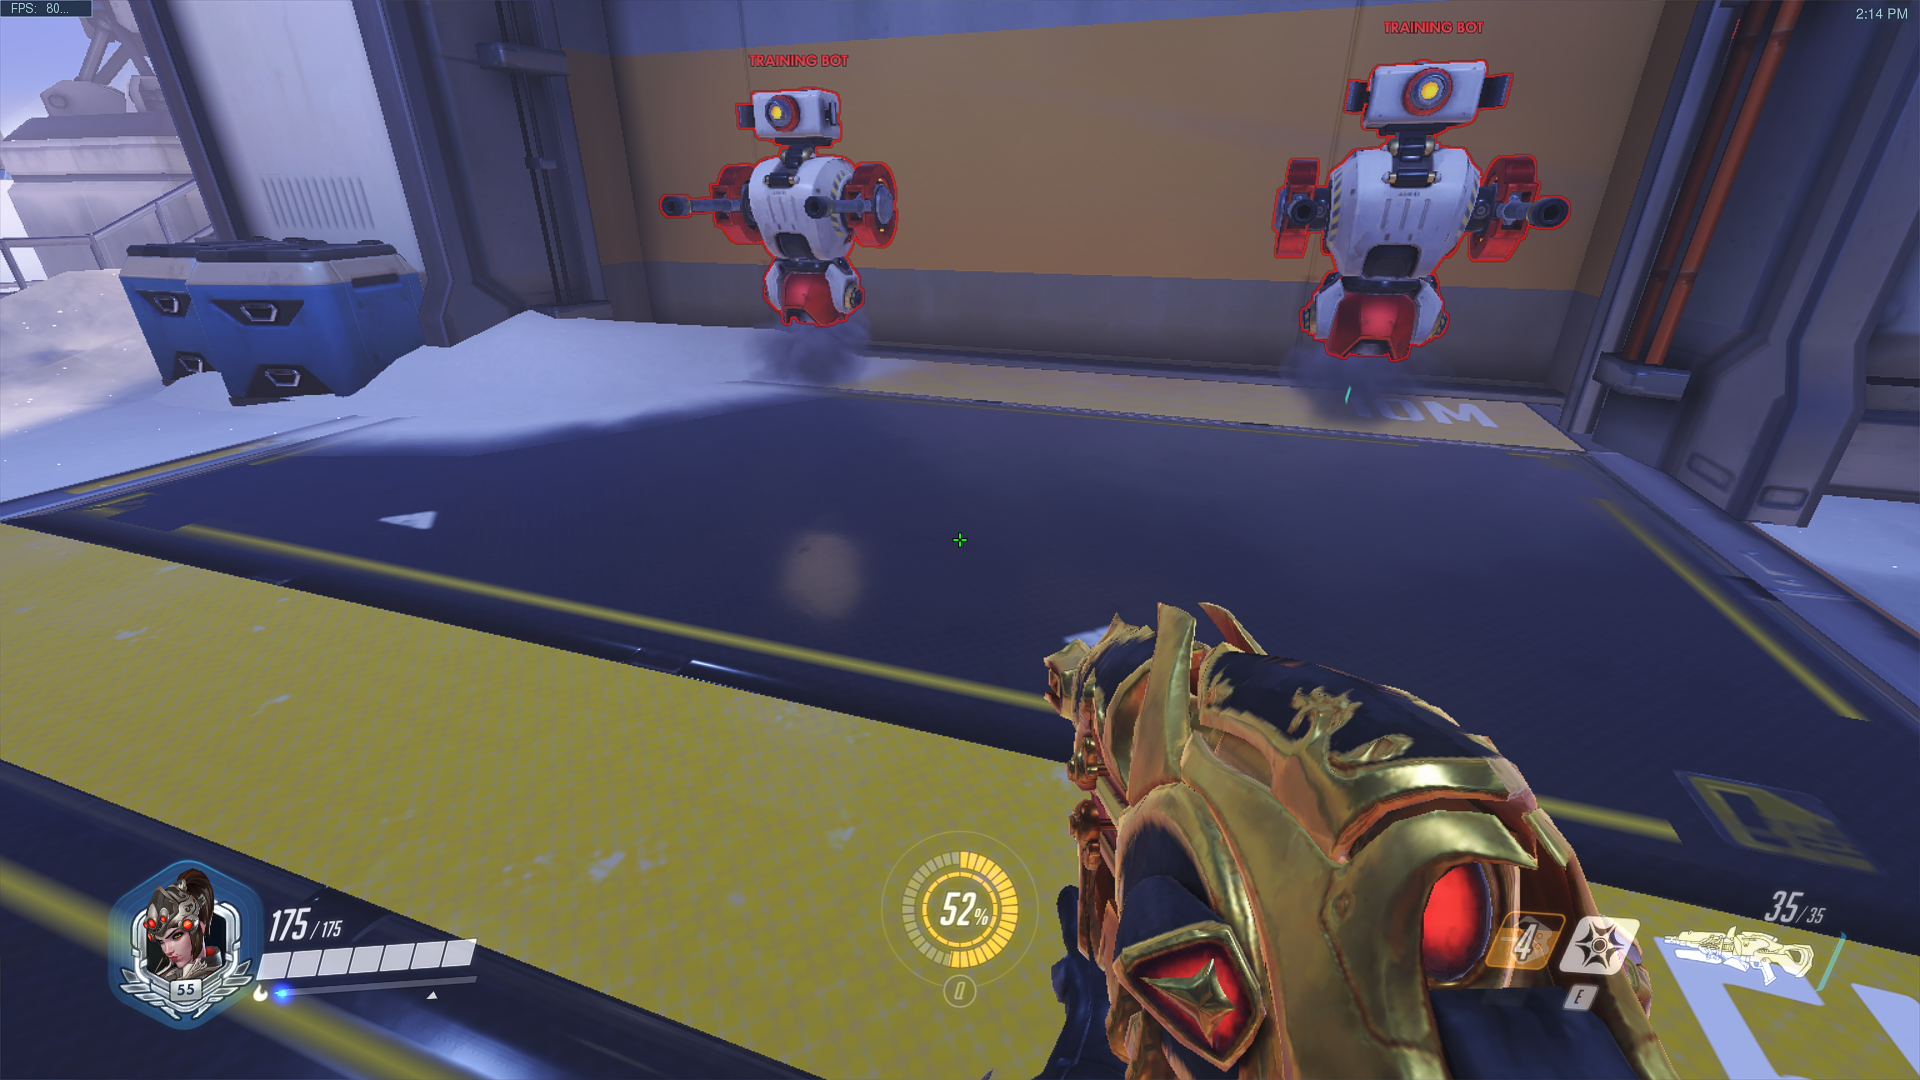head: (1352, 64, 1502, 130), (718, 77, 844, 140)
